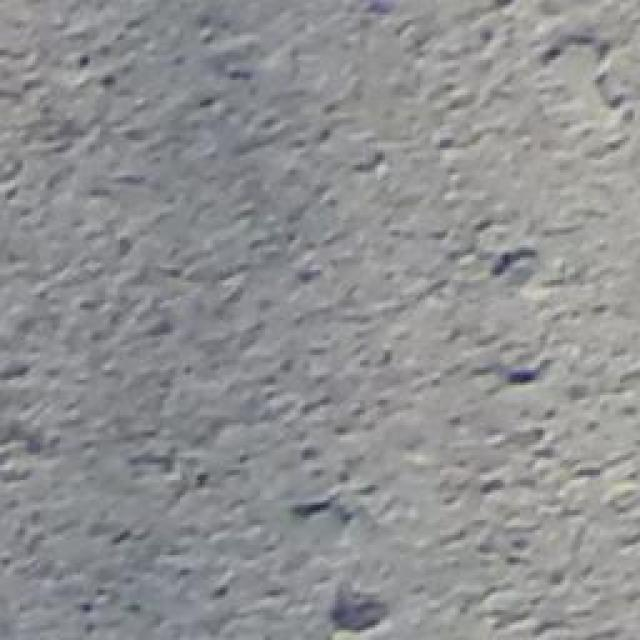concrete-crack: (330, 585, 390, 640)
